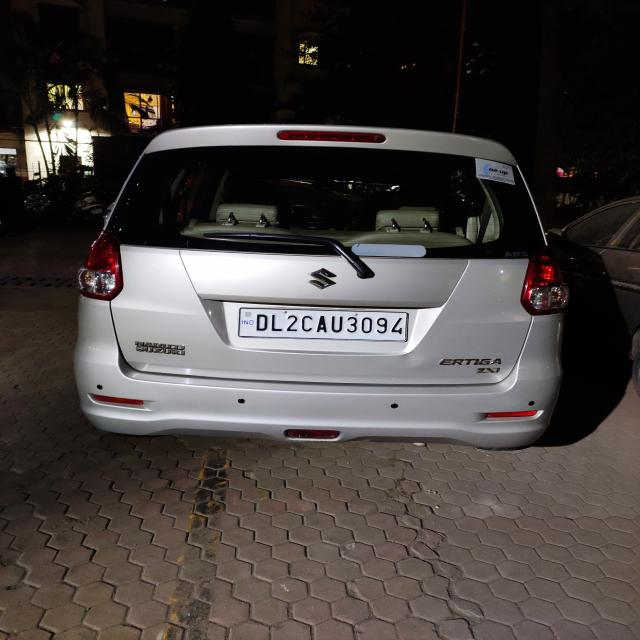Number-Plate: (230, 308, 407, 338)
